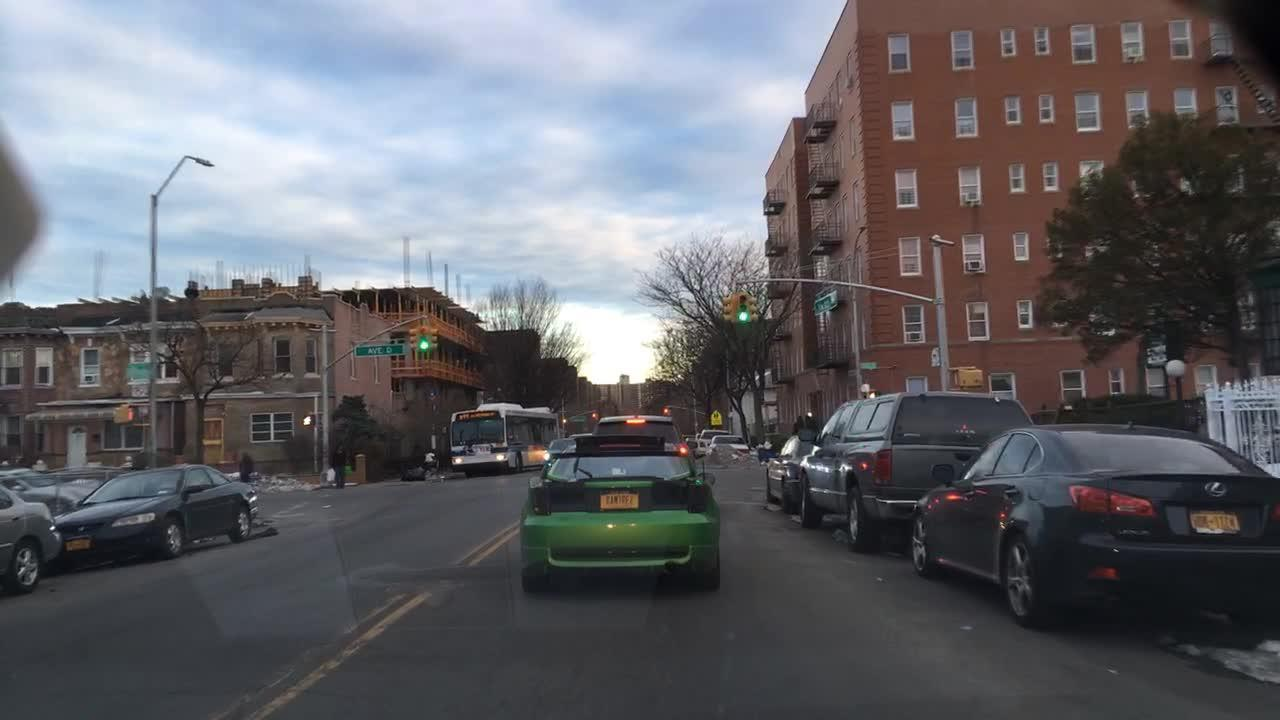lexus: (1202, 475, 1236, 503)
